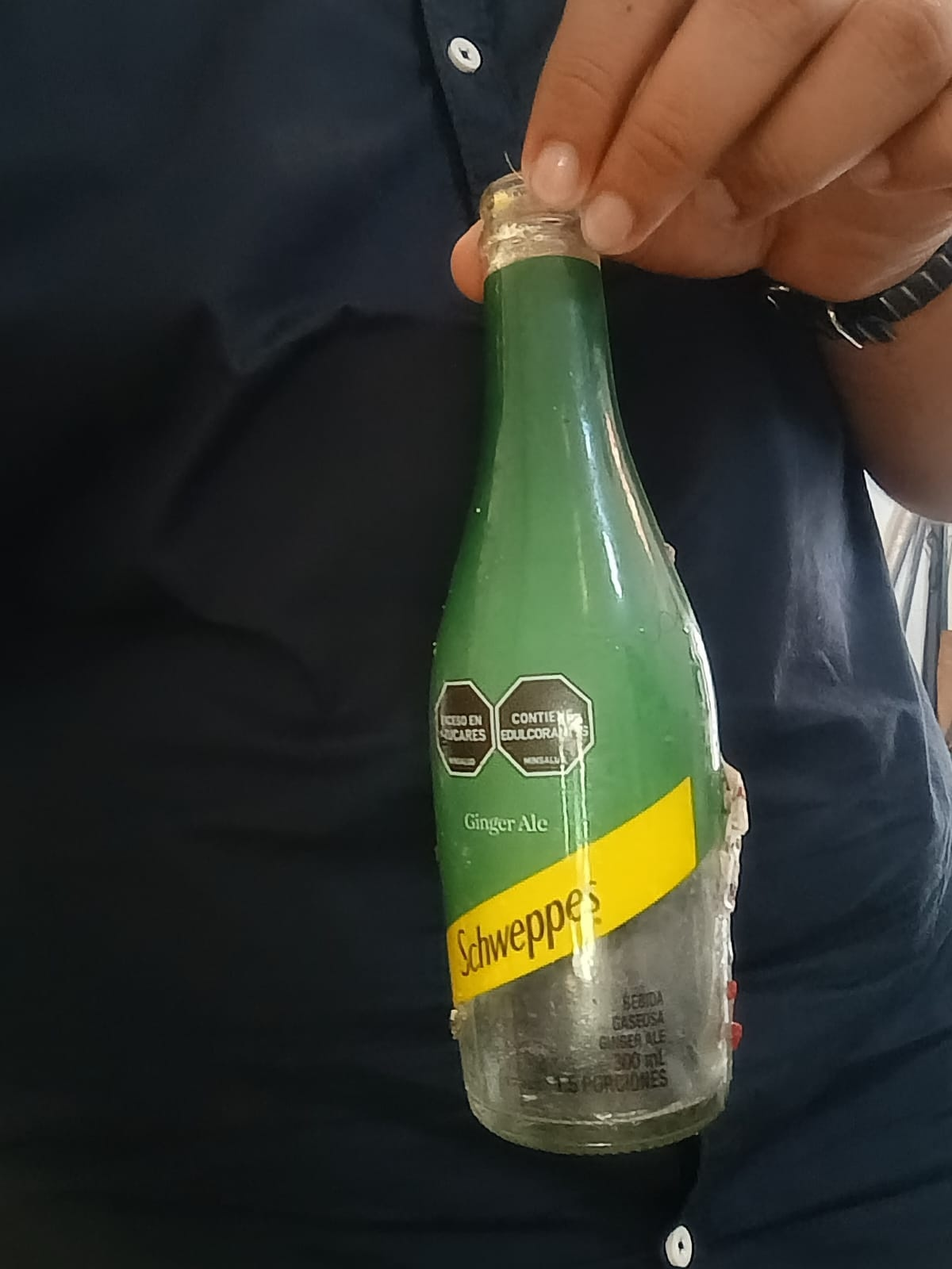Vidrio: (428, 168, 731, 1150)
